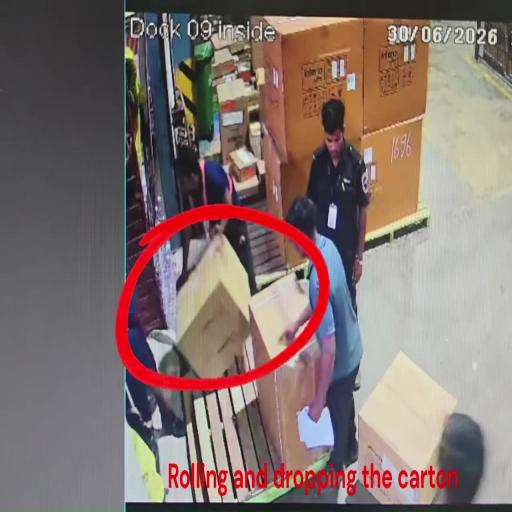carton: (250, 16, 364, 167), (248, 267, 330, 473), (357, 350, 459, 505), (260, 124, 362, 269), (171, 232, 252, 380), (362, 19, 431, 137), (360, 114, 424, 234), (220, 93, 250, 165), (214, 70, 257, 112), (228, 144, 259, 186), (208, 46, 240, 82), (234, 170, 262, 203)
pallet: (160, 348, 347, 510), (250, 220, 308, 294), (359, 207, 430, 251)
person: (282, 196, 364, 487), (304, 99, 371, 315), (172, 143, 260, 296), (124, 326, 184, 438), (430, 411, 488, 508), (124, 382, 166, 502)
